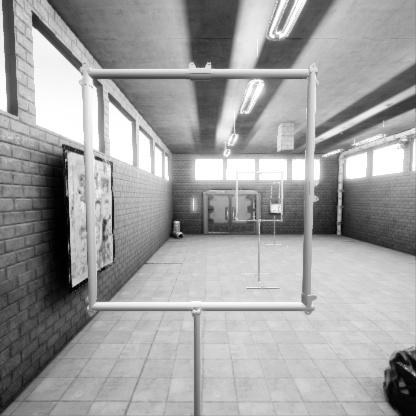gate: (96, 125, 319, 343), (237, 197, 285, 245), (270, 205, 280, 235)
